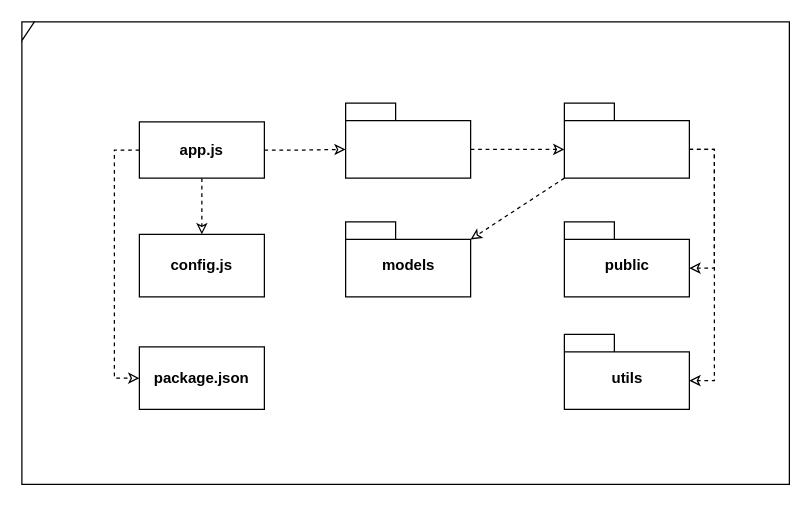
Some shapes in this 811 by 506 pixel diagram are drawn without their labels. Here are the shapes that lost their labels. From the top down, the centre of each, then its label:
At [407,140]: "views".
At [626,140]: "controllers".
